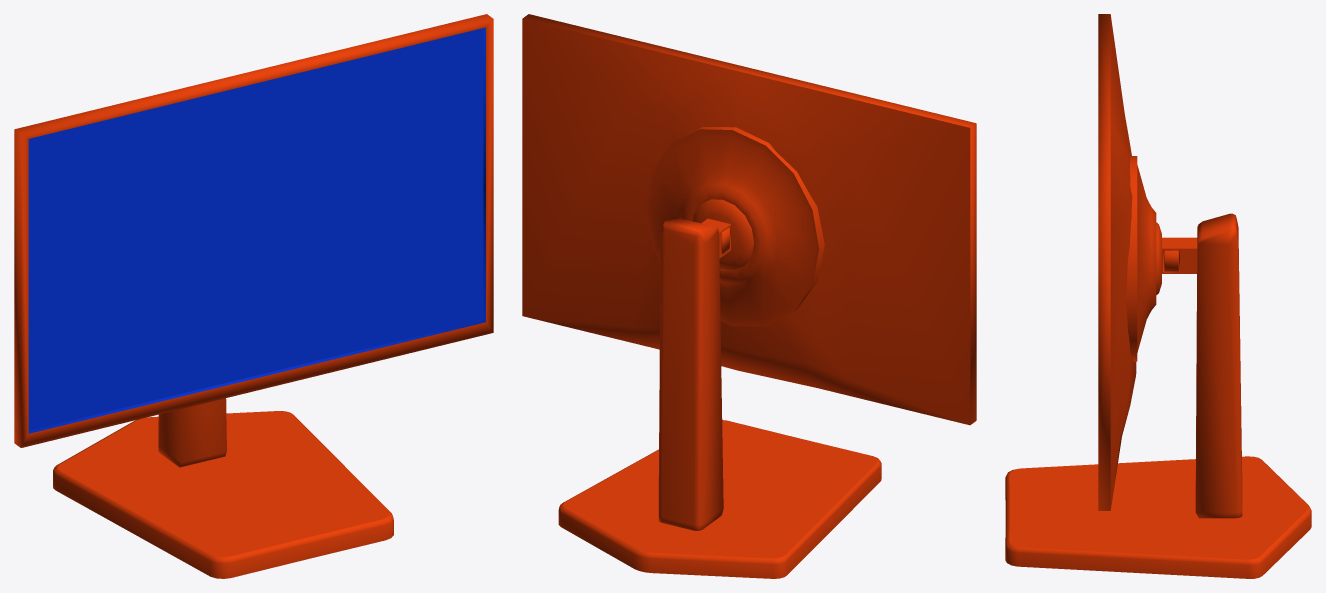
File: Monitor.fbx
3 renders of one model, left to right at view 1: azimuth 30°, elevation 25°; view 2: azimuth 150°, elevation 25°; view 3: azimuth 270°, elevation 25°, orthographic. The views are drawn at different scales.
Visible parts, largest first — view 1: pc; view 2: pc; view 3: pc.
Boxes of the visible parts, bbox=[...] form: pc: bbox=[14, 14, 493, 578]; pc: bbox=[522, 14, 976, 578]; pc: bbox=[1005, 14, 1311, 578].
Size of the model in its own units: 61.3 by 55.2 by 37.67.
